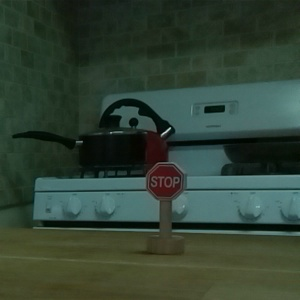stop sign: (142, 160, 187, 258)
